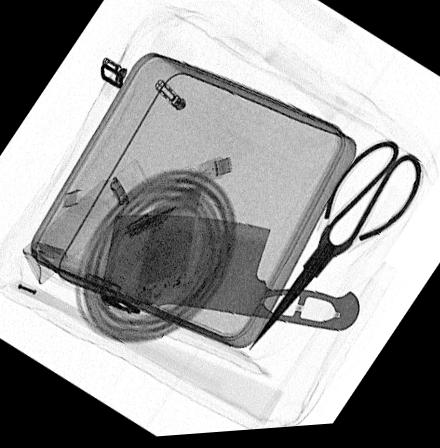Knife: (100, 215, 358, 337)
Powerbank: (133, 179, 208, 304)
Scissors: (240, 144, 422, 363)
Sprayer: (19, 160, 147, 285)
